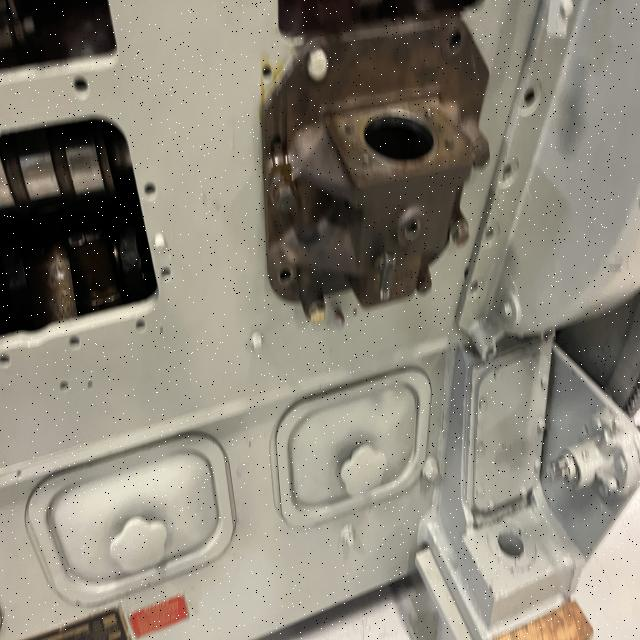Oil Leak: (258, 55, 301, 251)
